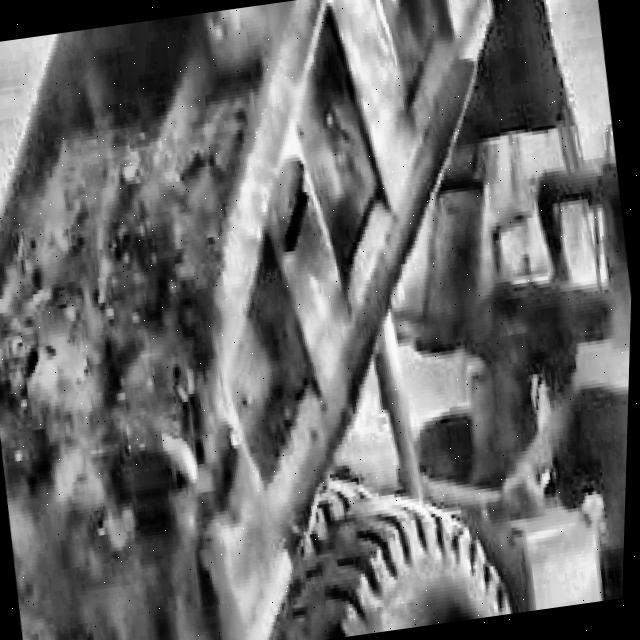dump_truck: (64, 0, 640, 640)
